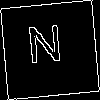N: (24, 24, 65, 73)
